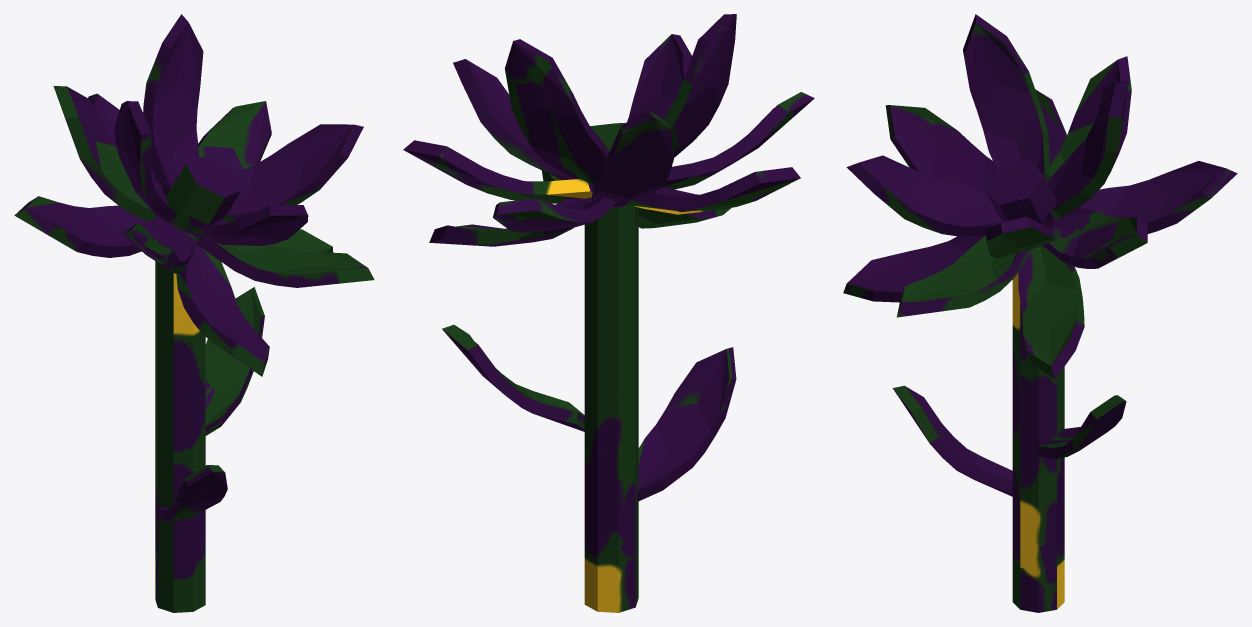
The model's file is lotus.obj.
3 views of the same model, side by side, from view 1: azimuth 30°, elevation 25°; view 2: azimuth 150°, elevation 25°; view 3: azimuth 270°, elevation 25° (orthographic). The views are drawn at different scales.
Parts seen in each view (by area): view 1: Blatt.042_Plane.040; view 2: Blatt.042_Plane.040; view 3: Blatt.042_Plane.040.
Boxes of the visible parts, box(x1,y1,x2,y2) form: Blatt.042_Plane.040: box(14, 14, 374, 612); Blatt.042_Plane.040: box(403, 14, 814, 612); Blatt.042_Plane.040: box(843, 14, 1237, 612).
Bounding box in the file's own units: 0.374 × 0.5781 × 0.3785.
